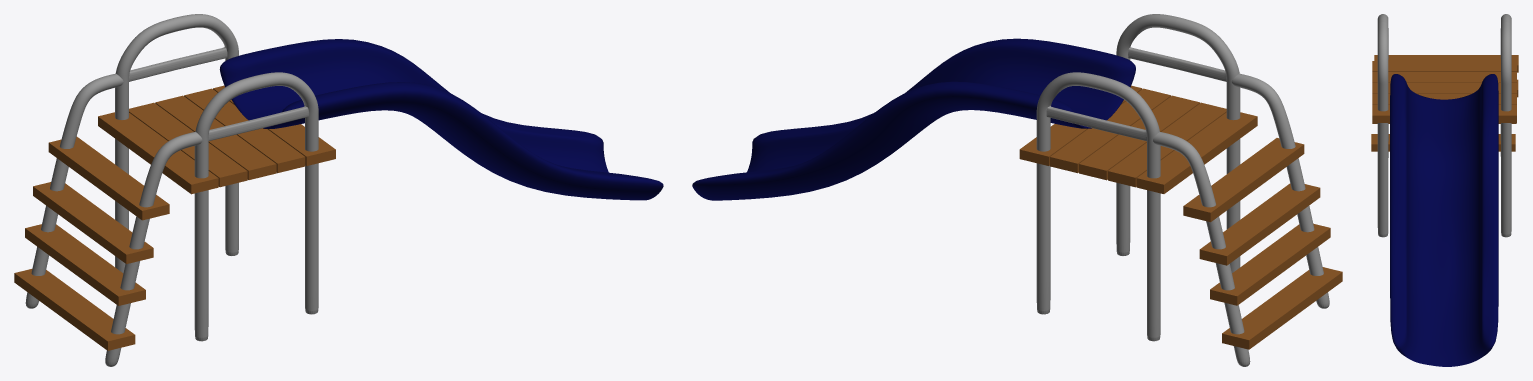
File: Escorregador.fbx
3 renders of one model, left to right at view 1: azimuth 30°, elevation 25°; view 2: azimuth 150°, elevation 25°; view 3: azimuth 270°, elevation 25°, orthographic. The views are drawn at different scales.
Visible parts, largest first — view 1: Cube.147, Cylinder.007, Cylinder.008, Cylinder.009; view 2: Cube.147, Cylinder.007, Cylinder.008, Cylinder.009; view 3: Cylinder.007, Cube.147, Cylinder.008.
Part boxes in pixels (x1,y1,x2,y2): Cube.147: [14, 85, 335, 350]; Cylinder.007: [219, 39, 663, 200]; Cylinder.008: [115, 14, 318, 341]; Cylinder.009: [25, 73, 202, 366]; Cube.147: [1019, 85, 1342, 349]; Cylinder.007: [692, 38, 1135, 200]; Cylinder.008: [1036, 14, 1240, 341]; Cylinder.009: [1153, 73, 1329, 366]; Cylinder.007: [1390, 74, 1498, 366]; Cube.147: [1371, 55, 1518, 151]; Cylinder.008: [1377, 14, 1511, 237].
Size of the model in its own units: 5804 by 2467 by 1677.
